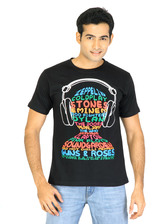clothoes: (26, 54, 145, 191)
